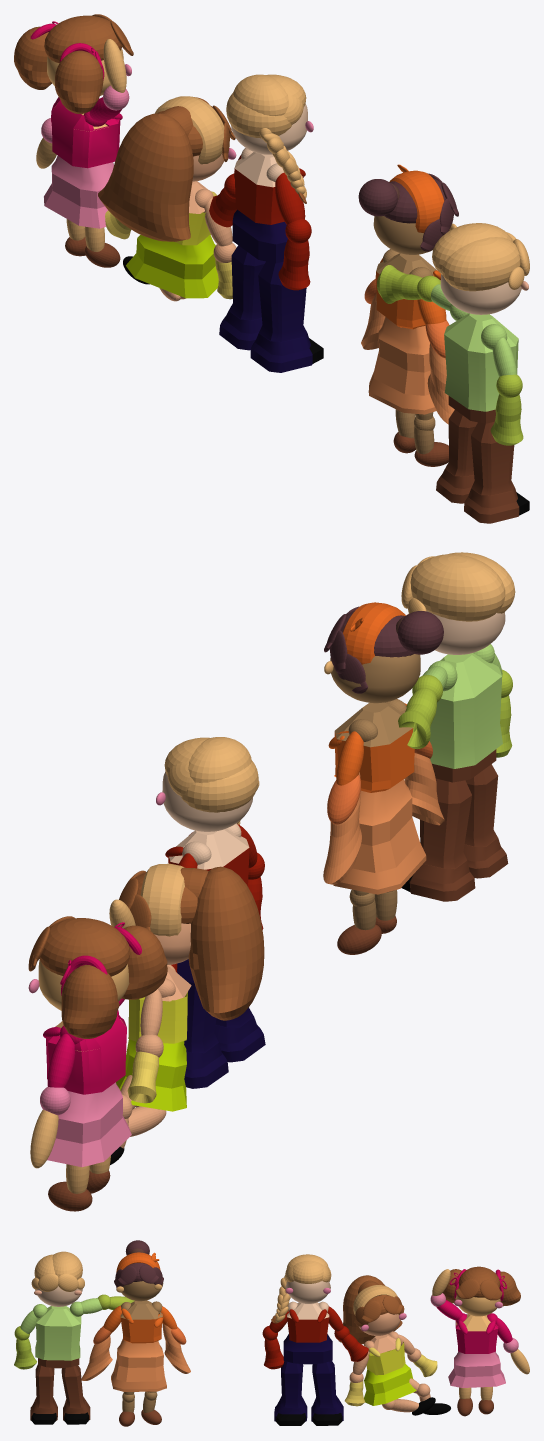
Rendered from asomw ppl now.fbx.
The picture shows the model from 3 angles, top to bottom: view 1: azimuth 30°, elevation 25°; view 2: azimuth 150°, elevation 25°; view 3: azimuth 270°, elevation 25°; orthographic projection. The views are drawn at different scales.
Visible parts, largest first — view 1: Sphere.021, trousers.003, Cube.003, Cube, trousers.001, Cube.019, trousers.002, Sphere.098, Cube.011, Cube.009, Sphere.039, Cube.016 (+30 smaller); view 2: Sphere.021, Cube, trousers.003, Cube.016, Sphere.097, trousers.002, Sphere.038, Sphere.061, Cube.011, Cube.019, Cube.009, Sphere.088 (+31 smaller); view 3: trousers.003, Cube, trousers.002, trousers.001, Cube.009, Cube.003, trousers, Cube.016, Cube.019, Sphere.021, Cube.001, Cube.011 (+49 smaller).
Boxes of the visible parts, <box> form: Sphere.021: <box>98,113,193,241</box>; trousers.003: <box>368,317,436,414</box>; Cube.003: <box>250,261,312,372</box>; Cube: <box>444,313,518,411</box>; trousers.001: <box>126,234,218,298</box>; Cube.019: <box>464,421,519,523</box>; trousers.002: <box>44,155,113,228</box>; Sphere.098: <box>442,237,520,291</box>; Cube.011: <box>51,99,120,168</box>; Cube.009: <box>219,245,265,350</box>; Sphere.039: <box>55,50,103,113</box>; Cube.016: <box>436,410,477,503</box>; Sphere.021: <box>188,866,264,1020</box>; Cube: <box>429,653,502,768</box>; trousers.003: <box>333,779,426,894</box>; Cube.016: <box>409,778,475,901</box>; Sphere.097: <box>410,554,505,621</box>; trousers.002: <box>47,1082,131,1167</box>; Sphere.038: <box>39,918,130,976</box>; Sphere.061: <box>61,964,119,1038</box>; Cube.011: <box>46,1014,126,1094</box>; Cube.019: <box>463,764,508,878</box>; Cube.009: <box>177,959,228,1088</box>; Sphere.088: <box>330,654,420,703</box>; trousers.003: <box>111,1339,166,1391</box>; Cube: <box>35,1306,81,1360</box>; trousers.002: <box>448,1352,505,1387</box>; trousers.001: <box>364,1364,416,1405</box>; Cube.009: <box>311,1361,343,1421</box>; Cube.003: <box>274,1361,307,1421</box>; trousers: <box>283,1334,332,1364</box>; Cube.016: <box>61,1365,90,1420</box>; Cube.019: <box>30,1364,57,1420</box>; Sphere.021: <box>338,1275,402,1344</box>; Cube.001: <box>287,1317,329,1342</box>; Cube.011: <box>455,1314,497,1353</box>.
Bounding box in the file's own units: 370 × 755 × 2061.
